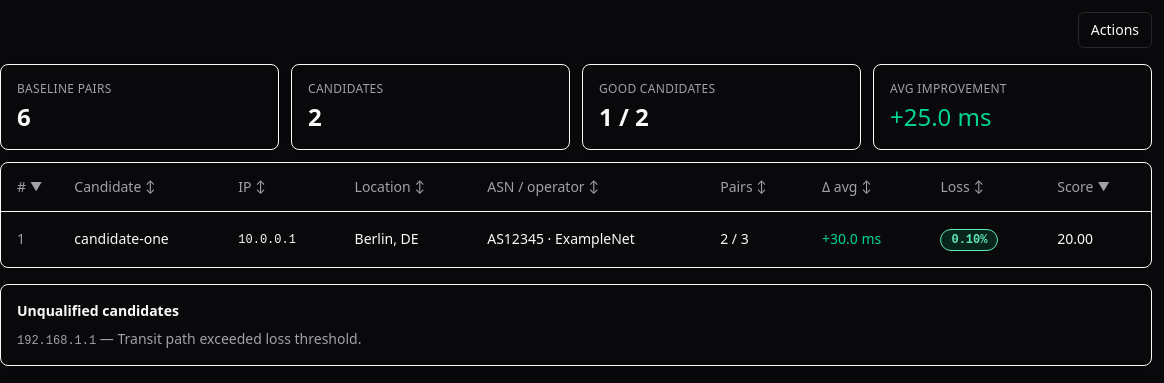
Scenario: CandidatesTab — overflow menu state gating › 'Detail: good candidates only' is disabled on completed campaigns
The width and height of the screenshot is (1164, 383).
Click the button with test id "candidates-overflow-trigger": click(1115, 30) 1078,12 -> 1152,48
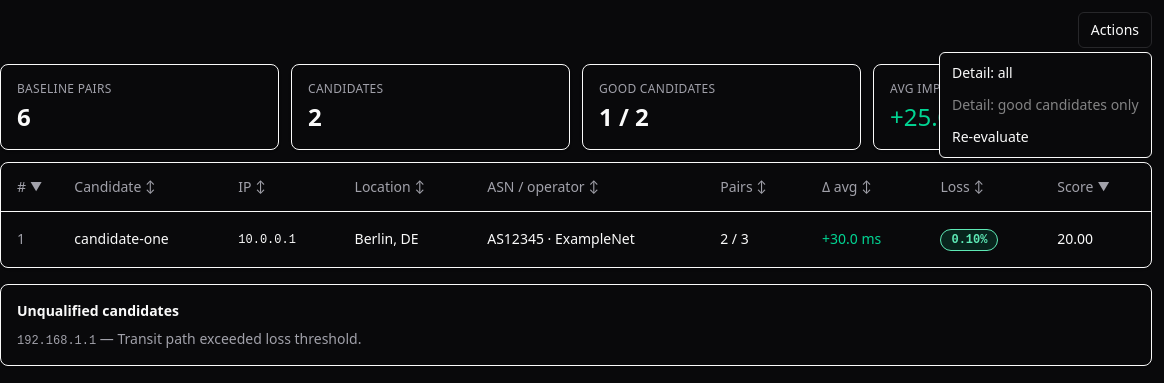
Now the menu item with test id "overflow-detail-good" is shown, box 952,95 -> 1138,114
